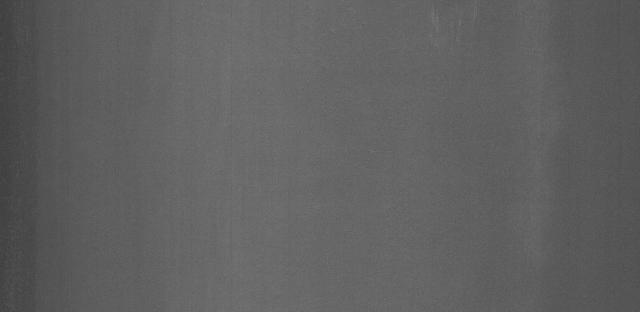silk_spot: (416, 7, 497, 62)
